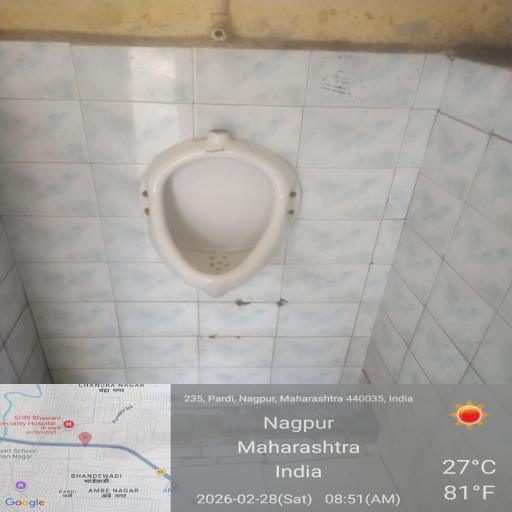clean_floor: (53, 29, 443, 138)
clean_urinal: (150, 150, 316, 299)
partial_dirty_floor: (23, 335, 464, 491)
